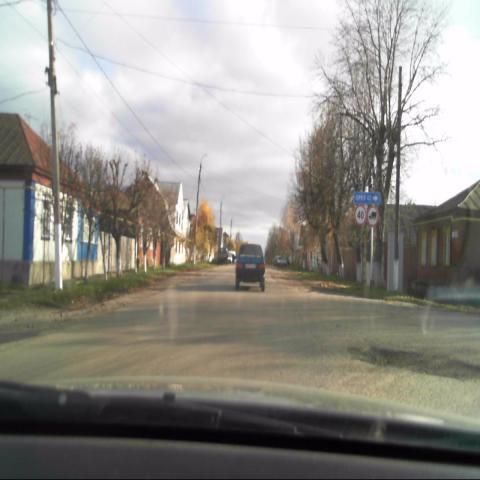3_4_1: (367, 206, 379, 227)
